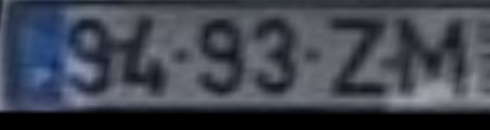3: (252, 16, 306, 99)
4: (119, 15, 175, 103)
9: (63, 17, 118, 101), (196, 18, 251, 100)
M: (395, 16, 477, 104)
Z: (325, 16, 397, 103)
